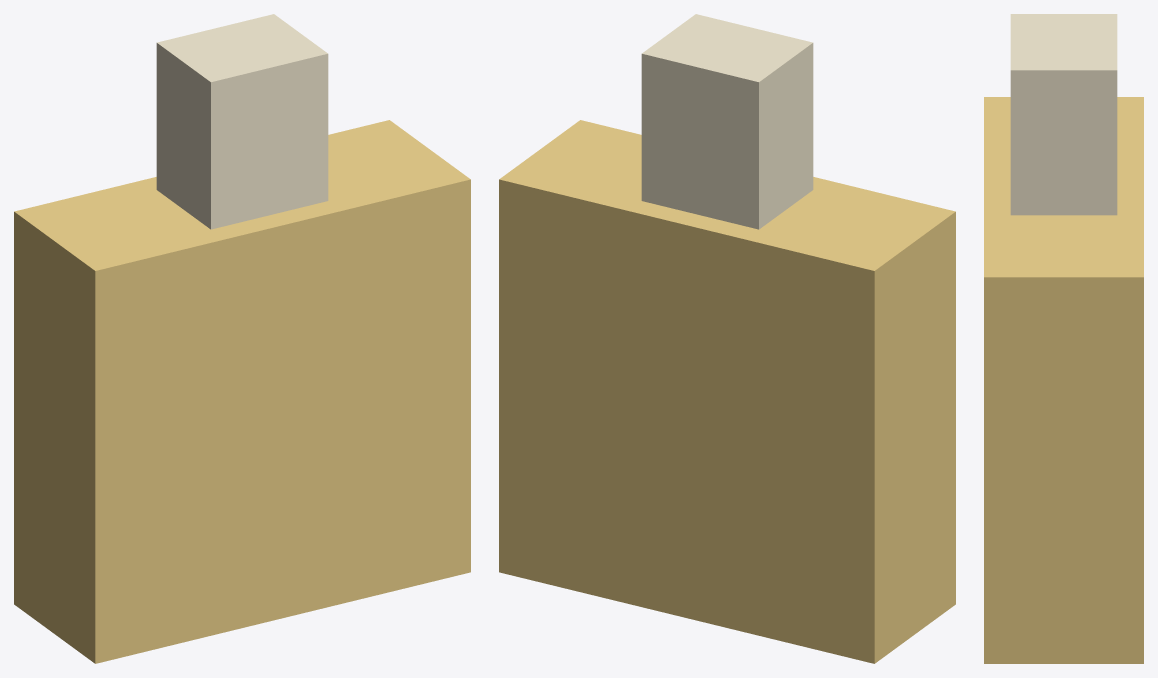
File: gold.gltf
The picture shows the model from 3 angles, left to right: view 1: azimuth 30°, elevation 25°; view 2: azimuth 150°, elevation 25°; view 3: azimuth 270°, elevation 25°; orthographic projection.
Bounding box in the file's own units: 0.8 × 1.1 × 0.3.
